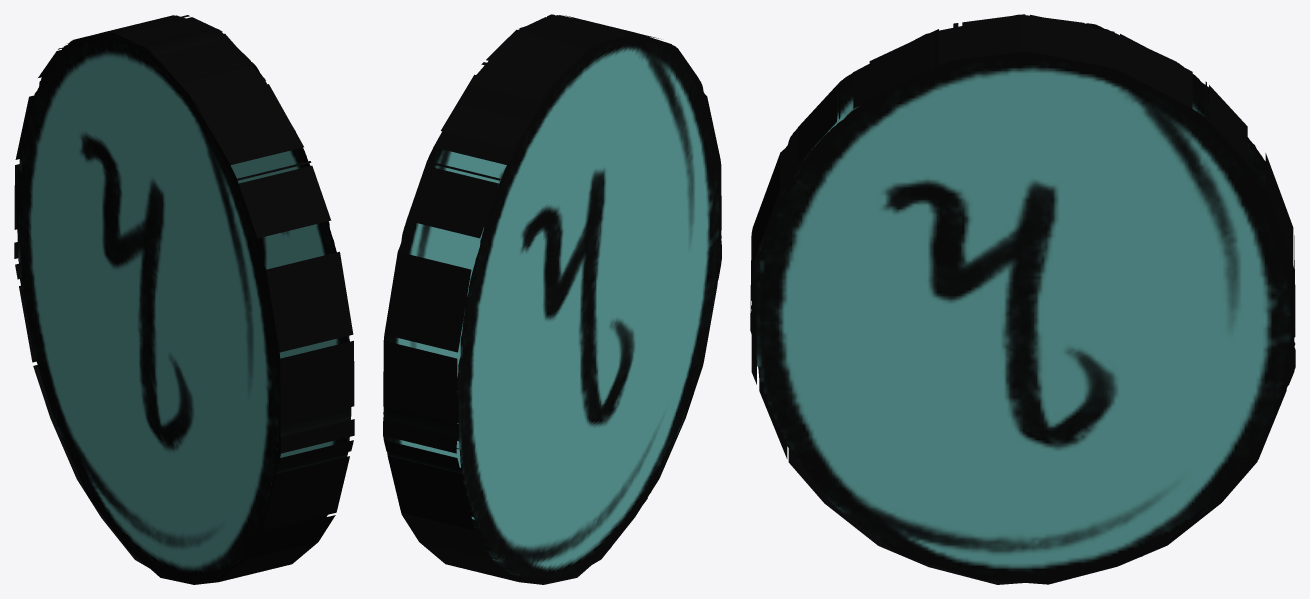
Rendered from Coin.fbx.
3 renders of one model, left to right at view 1: azimuth 30°, elevation 25°; view 2: azimuth 150°, elevation 25°; view 3: azimuth 270°, elevation 25°, orthographic. The views are drawn at different scales.
Parts seen in each view (by area): view 1: letter1.001, letter1; view 2: letter1.001, letter1; view 3: letter1, letter1.001.
Part boxes in pixels (<box>): letter1.001: <box>16,15,354,584</box>; letter1: <box>14,15,351,583</box>; letter1.001: <box>385,15,721,583</box>; letter1: <box>383,14,721,584</box>; letter1: <box>752,14,1295,584</box>; letter1.001: <box>750,14,1292,584</box>.
Size of the model in its own units: 13.38 by 89.35 by 82.78.
2 materials, 2 textured.
